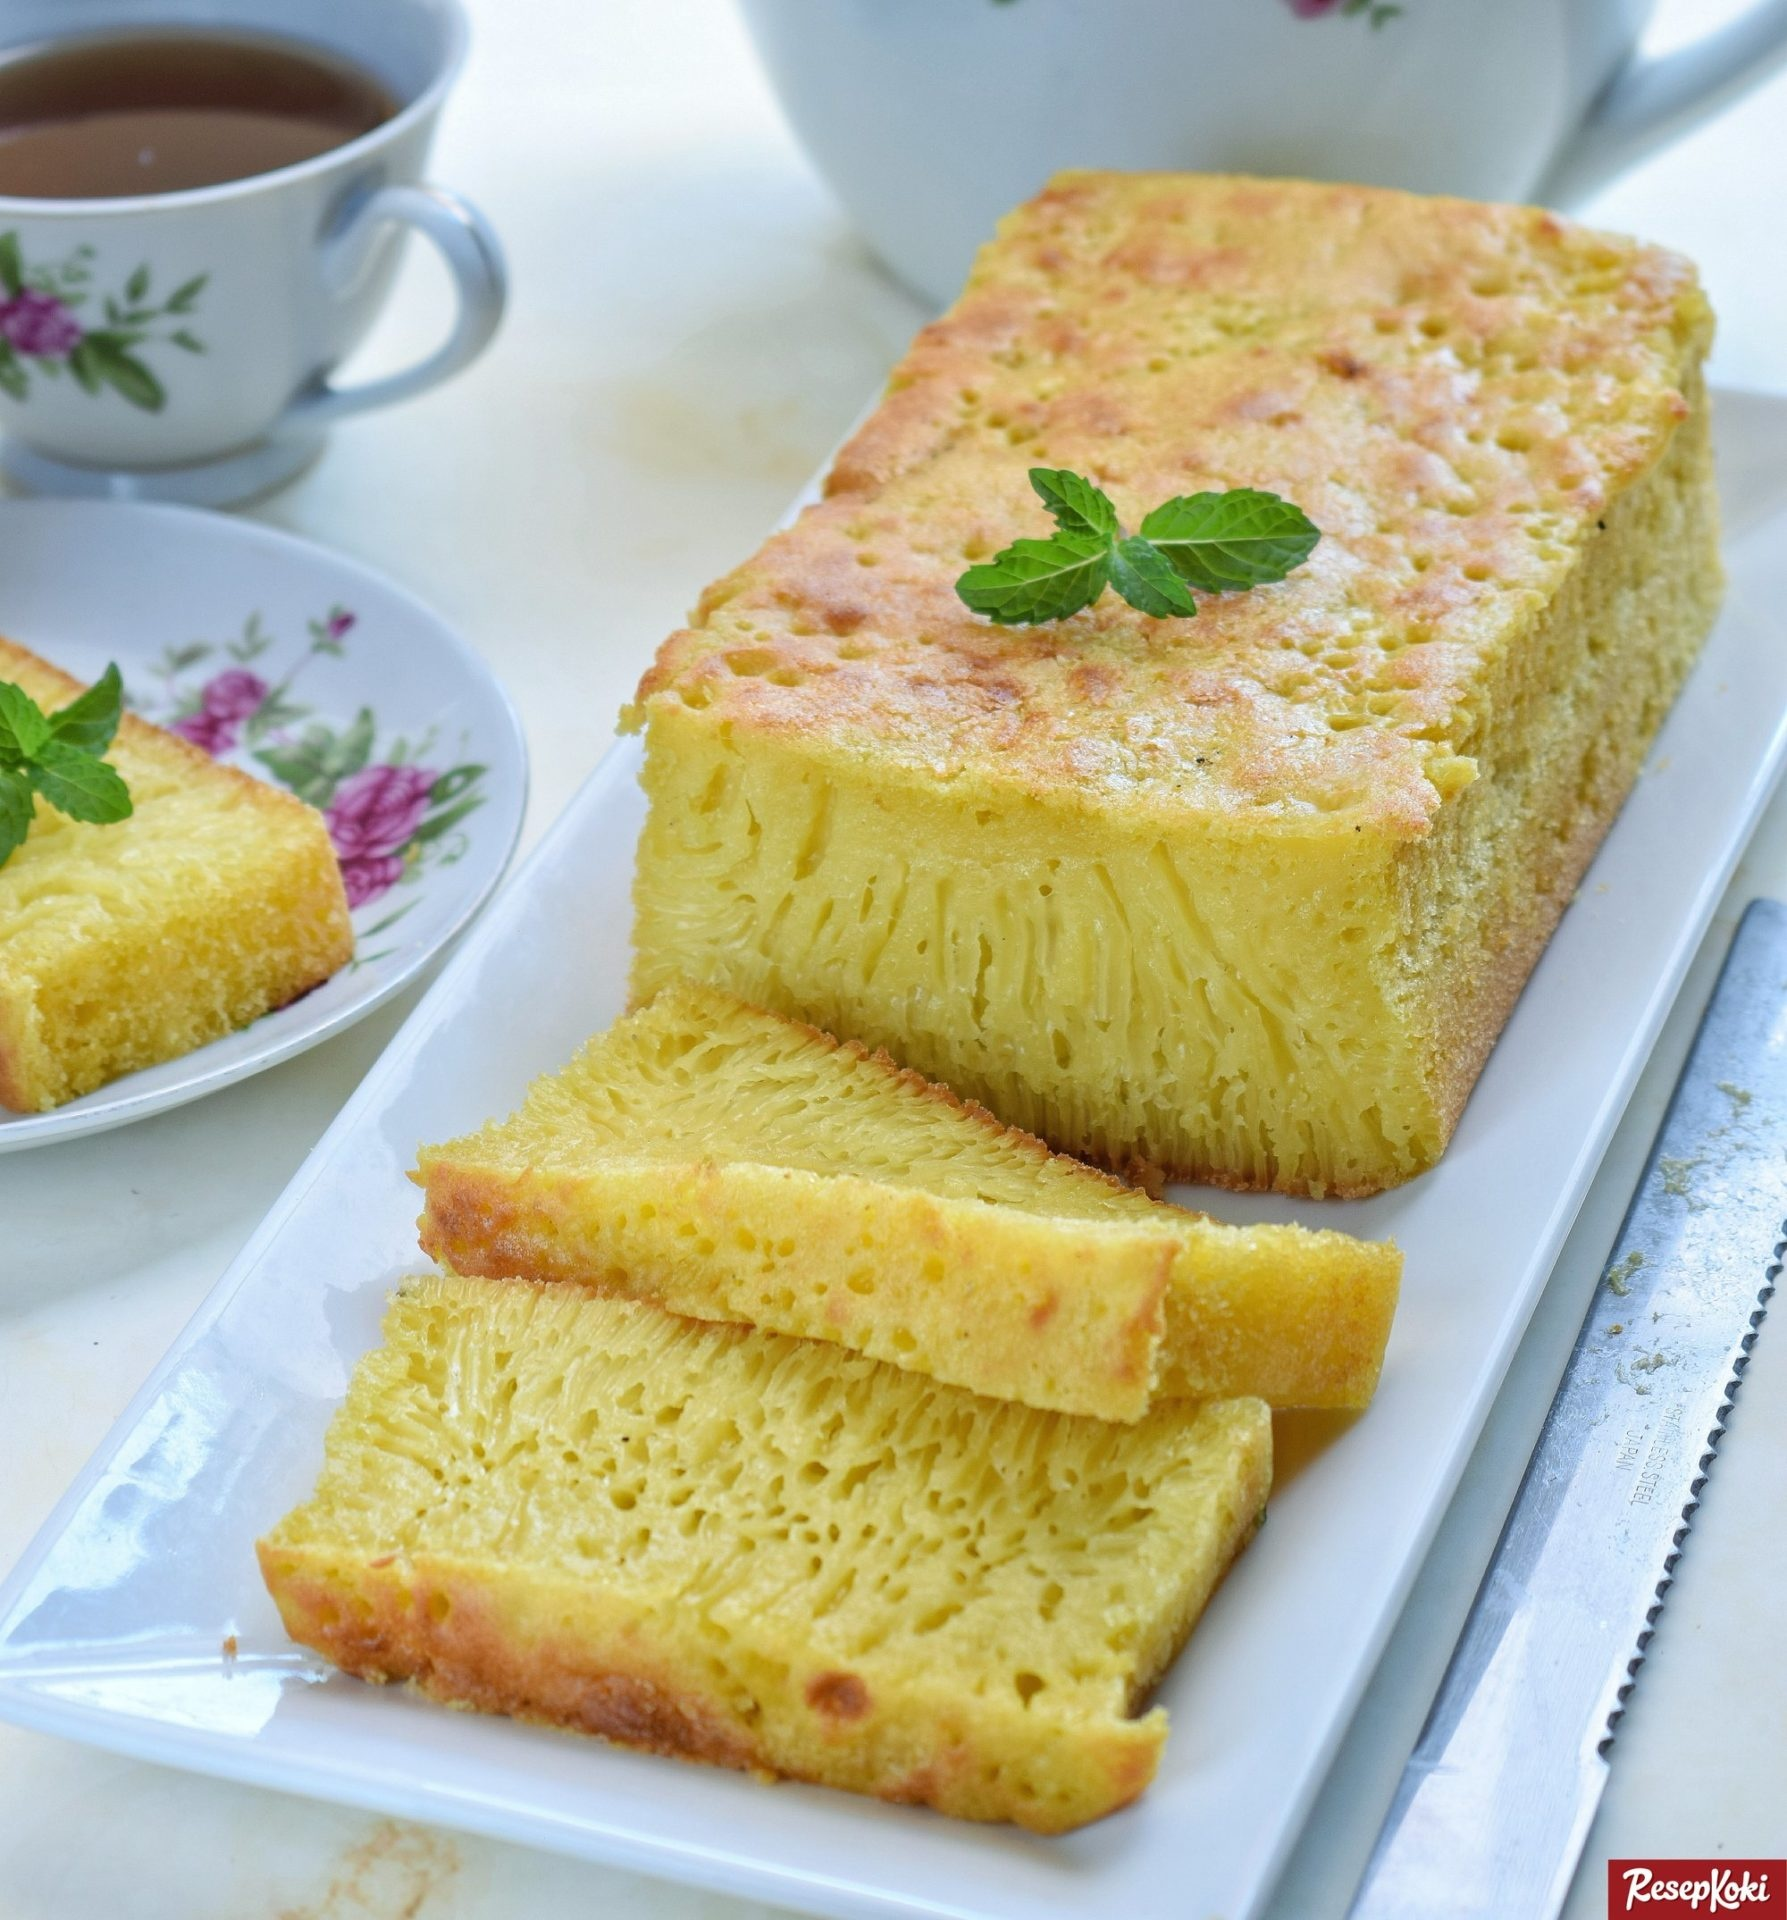bika_ambon: (376, 904, 1446, 1465), (255, 1236, 1238, 1814), (569, 680, 1481, 1298)
